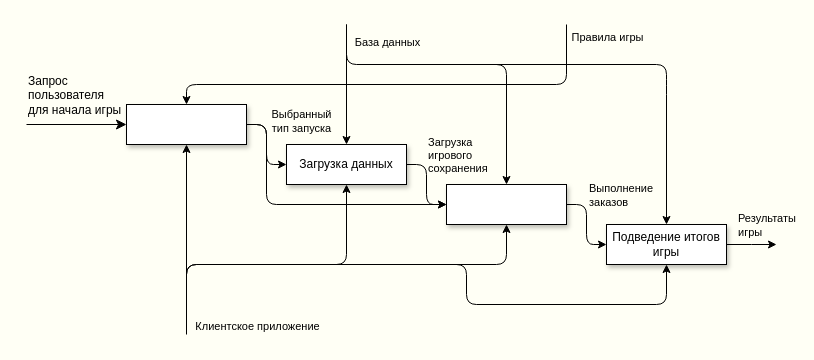
The diagram is 814 pixels wide and 360 high, and some of its shapes have lost their labels. Each missing label, with the centre of its shape:
"Вход в игру" belongs at pixel 187 126.
"Процесс игры" belongs at pixel 507 206.
